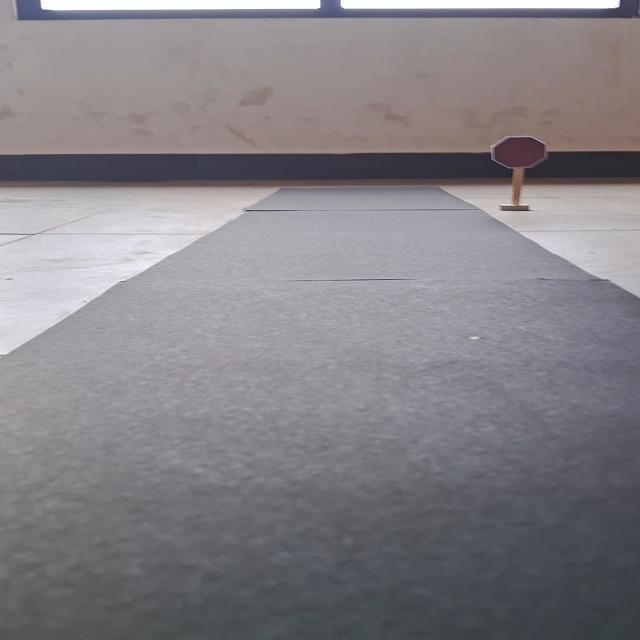Stop: (489, 136, 548, 170)
